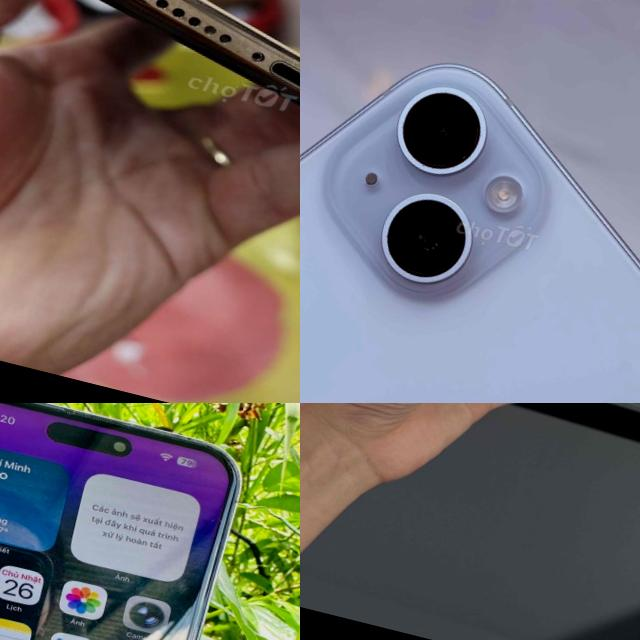scratch: (233, 21, 300, 90), (108, 0, 213, 14)
